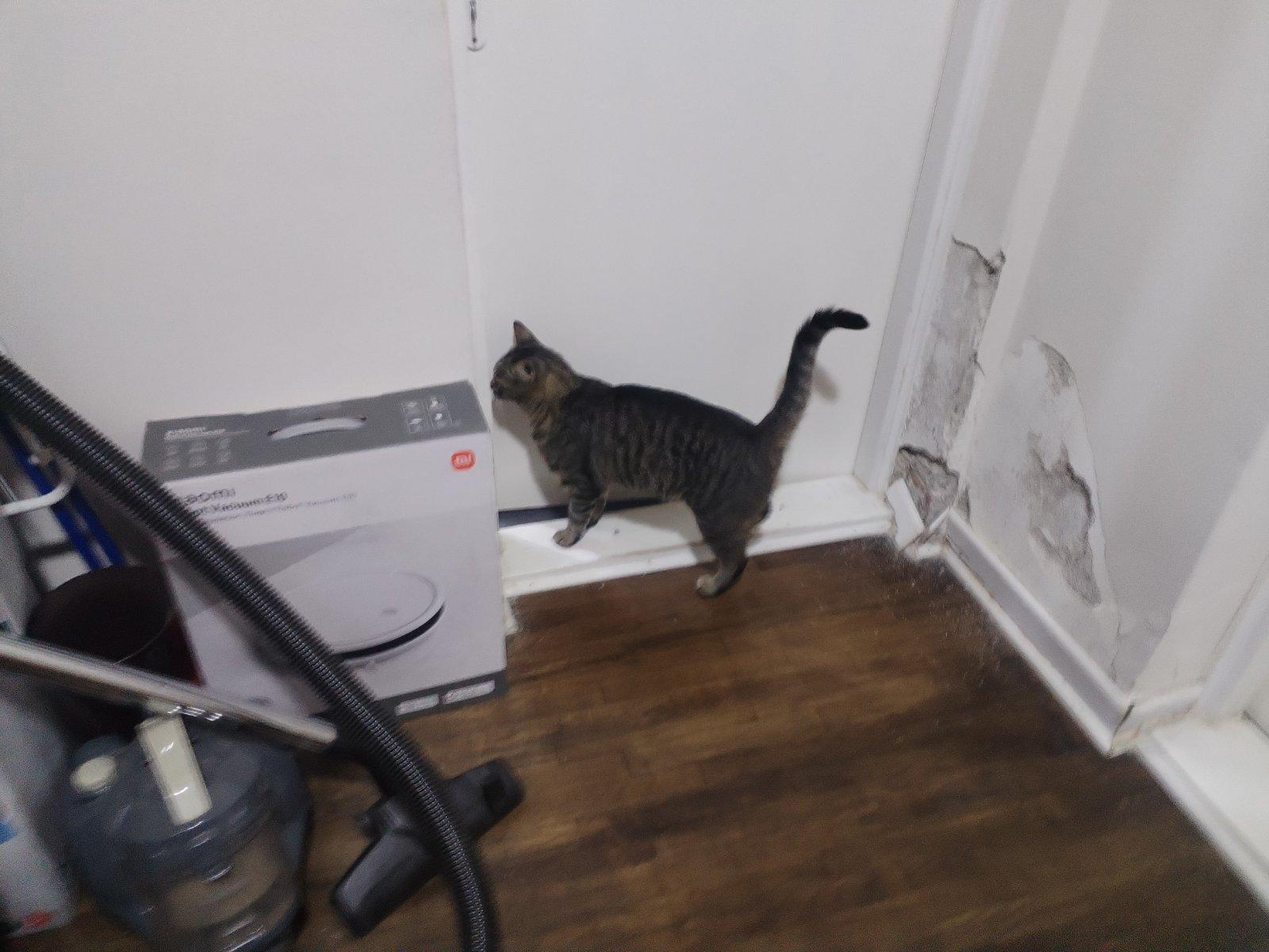macka: (490, 307, 872, 598)
